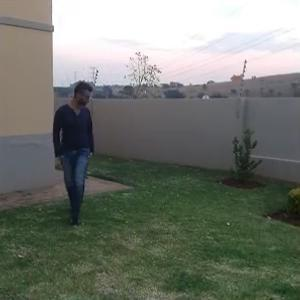follow: (42, 74, 95, 231)
